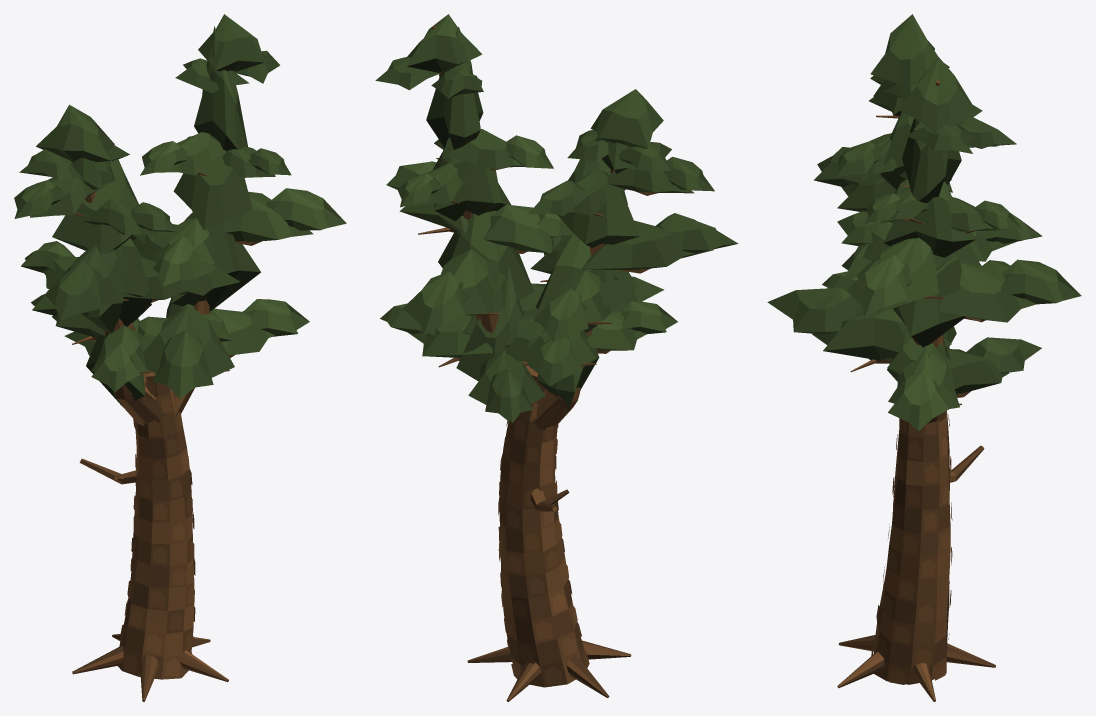
Rendered from pine-06.glb.
3 renders of one model, left to right at view 1: azimuth 30°, elevation 25°; view 2: azimuth 150°, elevation 25°; view 3: azimuth 270°, elevation 25°, orthographic. The views are drawn at different scales.
Visible parts, largest first — view 1: pine-06; view 2: pine-06; view 3: pine-06.
Boxes of the visible parts, left/top/right/bottom form: pine-06: left=14, top=14, right=346, bottom=701; pine-06: left=375, top=14, right=738, bottom=701; pine-06: left=767, top=14, right=1081, bottom=701.
Bounding box in the file's own units: 4.84 × 9 × 3.92.
